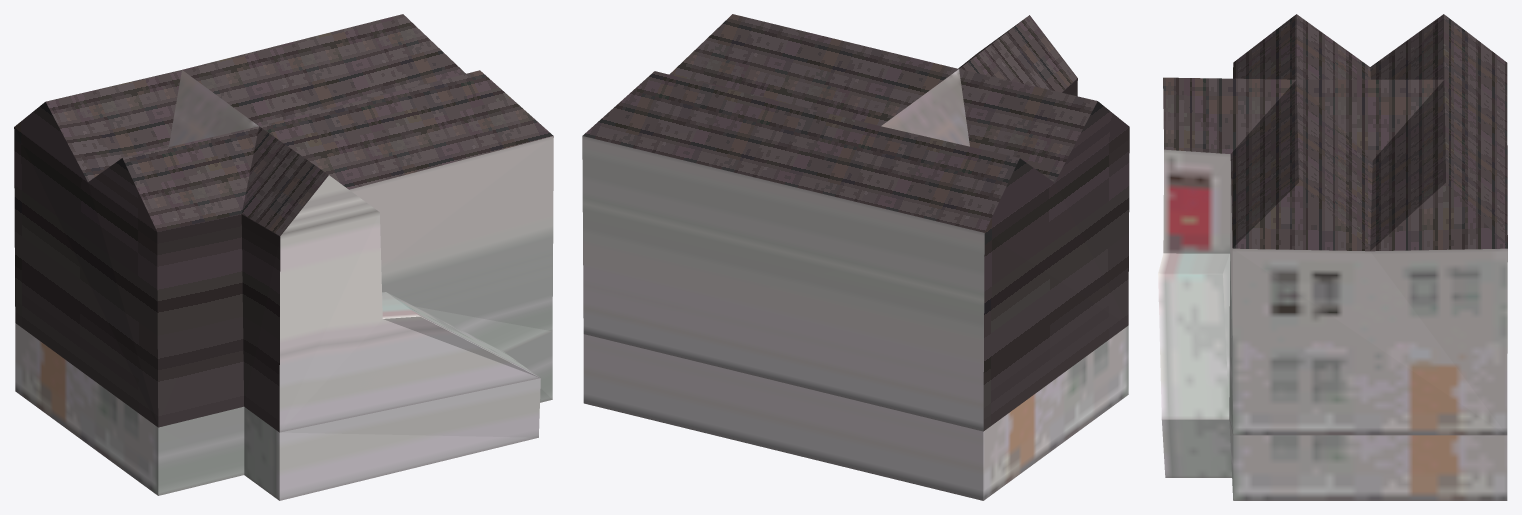
File: lod_hse_02_sfxrf.obj
The picture shows the model from 3 angles, left to right: view 1: azimuth 30°, elevation 25°; view 2: azimuth 150°, elevation 25°; view 3: azimuth 270°, elevation 25°; orthographic projection. The views are drawn at different scales.
Visible parts, largest first — view 1: LOD_hse_02_SFXRF; view 2: LOD_hse_02_SFXRF; view 3: LOD_hse_02_SFXRF.
Part boxes in pixels (x1=…): LOD_hse_02_SFXRF: x1=14, y1=14, x2=553, y2=500; LOD_hse_02_SFXRF: x1=582, y1=14, x2=1129, y2=500; LOD_hse_02_SFXRF: x1=1158, y1=14, x2=1507, y2=500.
Size of the model in its own units: 12.18 by 9.21 by 9.68.
Materials: 2 (2 with a texture image).
